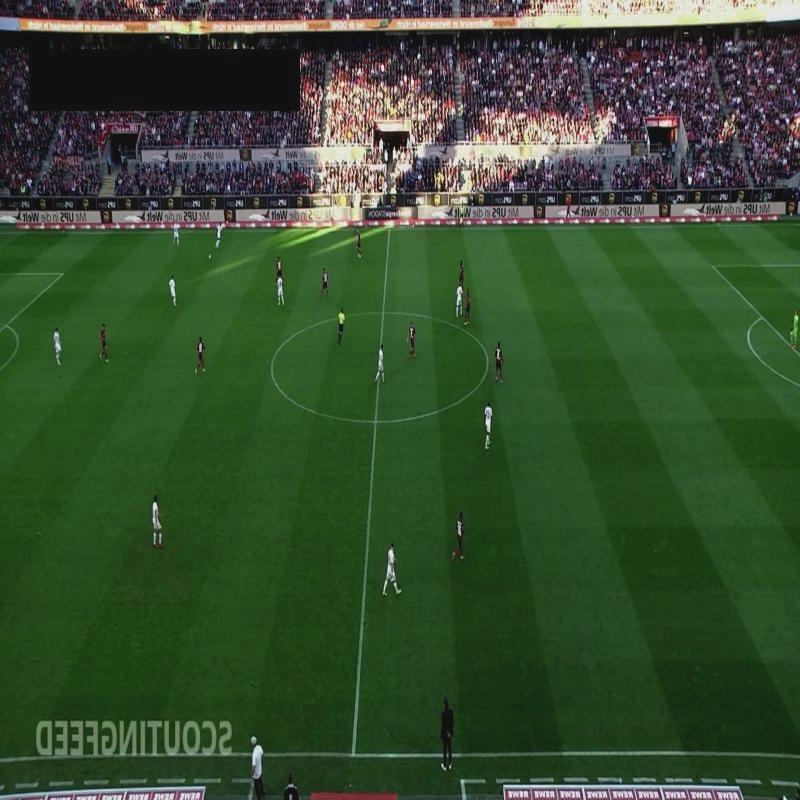10: (753, 311, 773, 326), (0, 320, 12, 330)
13: (382, 222, 396, 236)
14: (376, 305, 390, 318)
15: (369, 414, 383, 428)
16: (335, 741, 371, 768)
9: (706, 260, 722, 276), (56, 266, 70, 280)
c: (480, 350, 494, 371), (266, 359, 280, 373)
